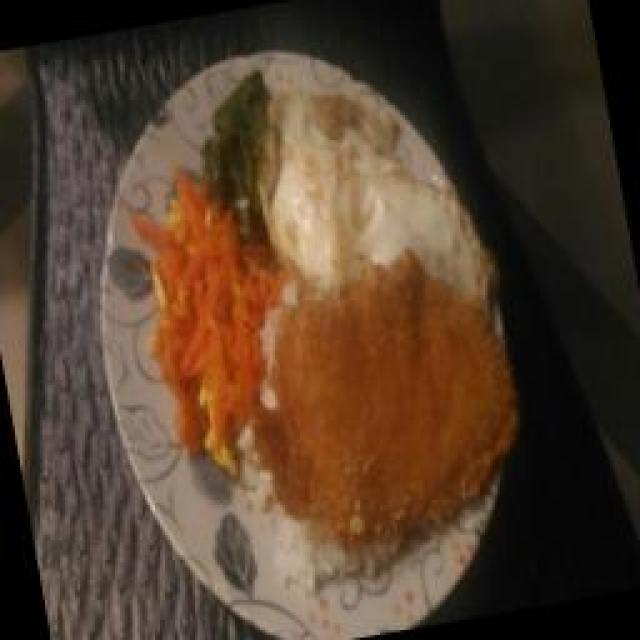carrot_eggs: (133, 160, 293, 455)
fried_chicken: (227, 238, 535, 558)
fried_eggs: (250, 68, 483, 293)
rice: (270, 508, 345, 593)
